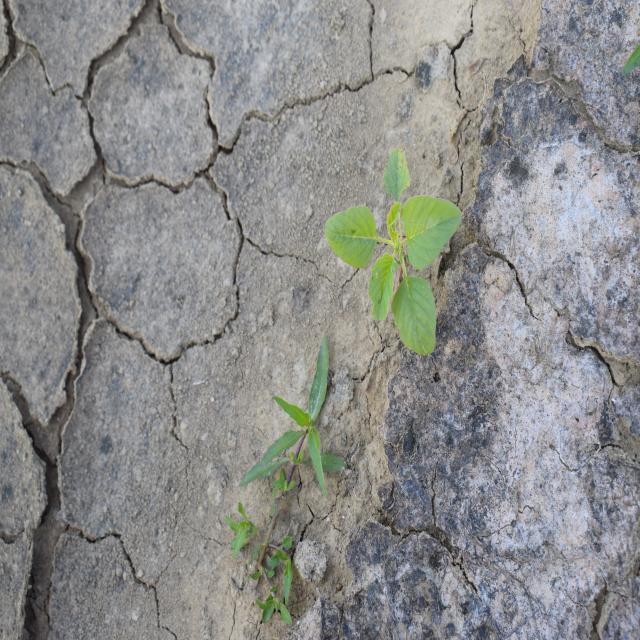Eclipta: (224, 335, 348, 627)
PalmerAmaranth: (324, 146, 464, 359)
